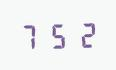five: (45, 20, 70, 49)
seven: (18, 21, 43, 50)
two: (71, 19, 96, 48)
